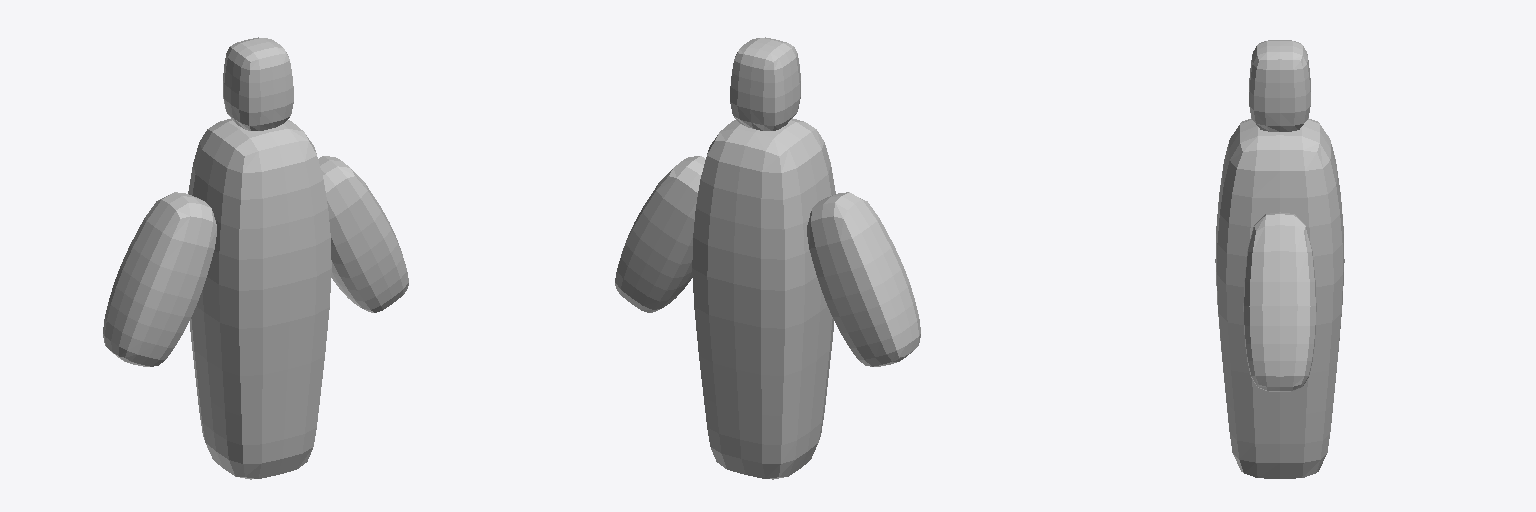
The model's file is robot_leg.obj.
The picture shows the model from 3 angles: view 1: azimuth 30°, elevation 25°; view 2: azimuth 150°, elevation 25°; view 3: azimuth 270°, elevation 25°; orthographic projection.
Parts seen in each view (by area): view 1: player; view 2: player; view 3: player.
Boxes of the visible parts, x1,y1,x2,y2 form: player: [103, 37, 408, 479]; player: [615, 37, 920, 479]; player: [1215, 40, 1344, 478].
Size of the model in its own units: 1.28 by 1.78 by 0.4925.